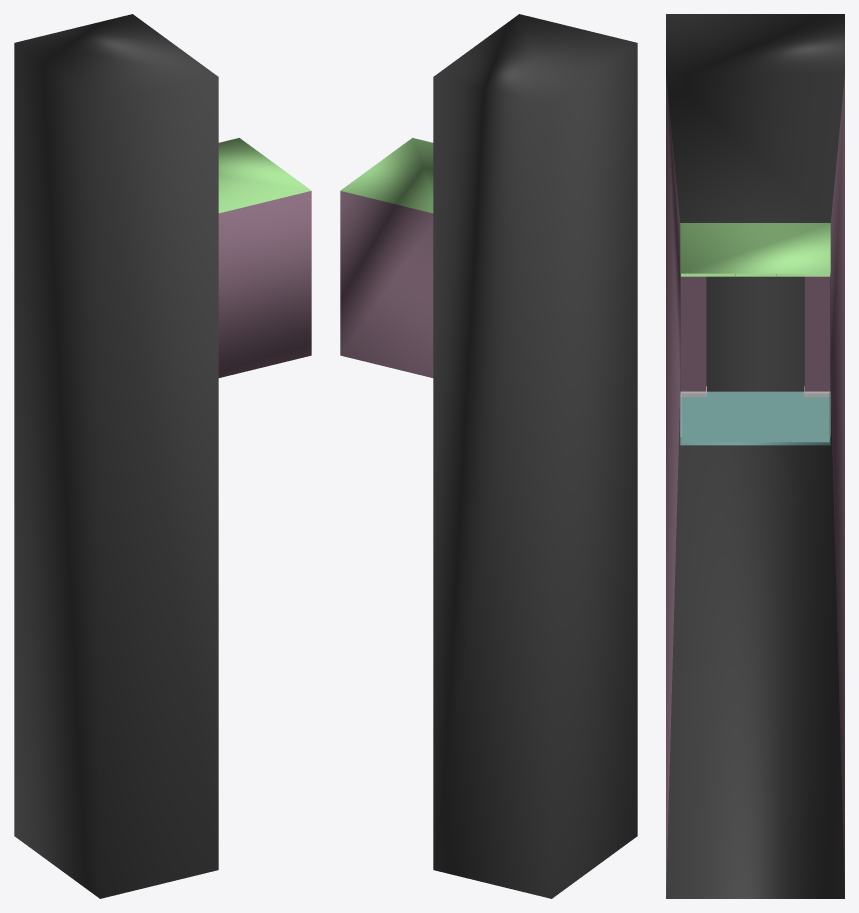
File: Lvl_0_Corridor_endpiece_elevator_w_light.fbx
3 renders of one model, left to right at view 1: azimuth 30°, elevation 25°; view 2: azimuth 150°, elevation 25°; view 3: azimuth 270°, elevation 25°, orthographic. The views are drawn at different scales.
Visible parts, largest first — view 1: Corridor_wall; view 2: Corridor_wall; view 3: Corridor_wall, Corridor_floor, Corridor_ceiling.
Part boxes in pixels (x1,y1,x2,y2): Corridor_wall: (14,14,311,898); Corridor_wall: (340,14,637,898); Corridor_wall: (666,14,844,898); Corridor_floor: (681,391,829,442); Corridor_ceiling: (680,273,830,276).
Bounding box in the file's own units: 430 × 1492 × 293.
